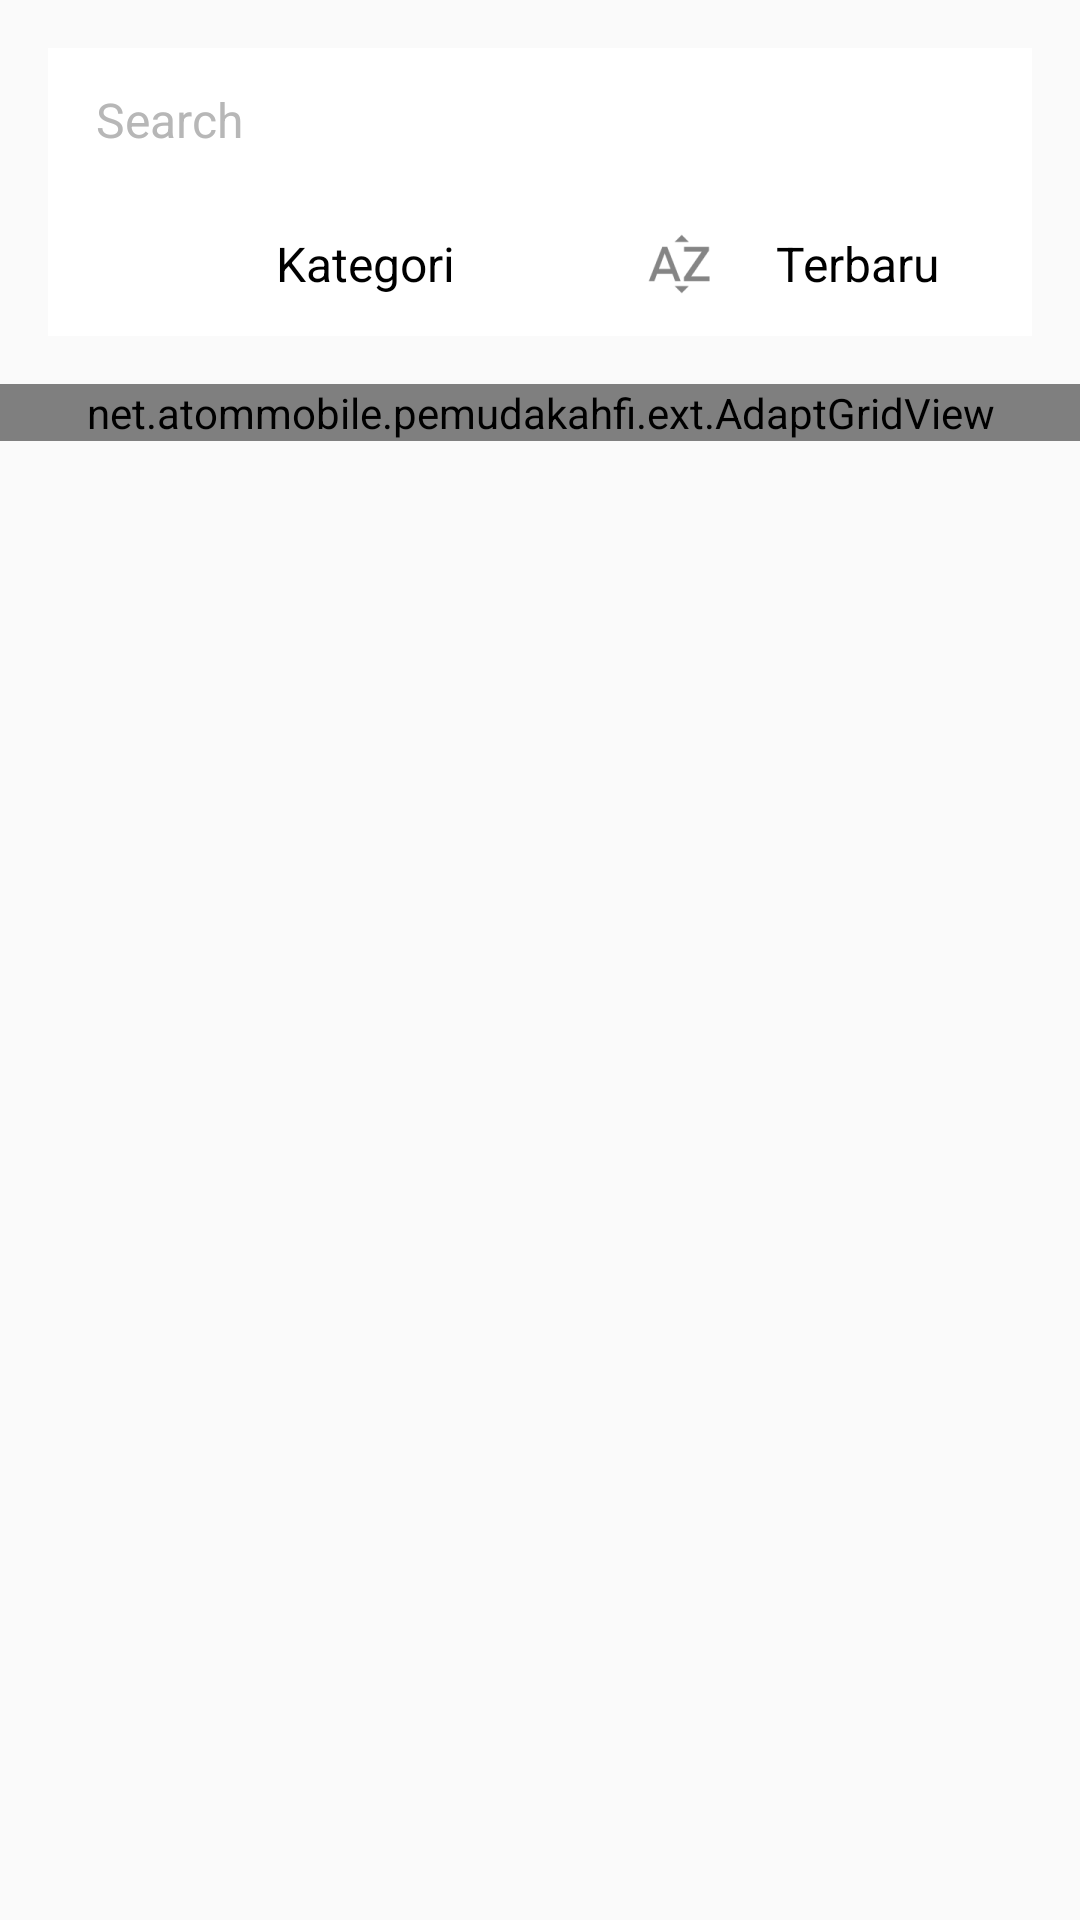

Where icons sit on this 1080x1920 app screen, as [x1, y1, x2, y2]:
sort: [649, 235, 710, 293]
